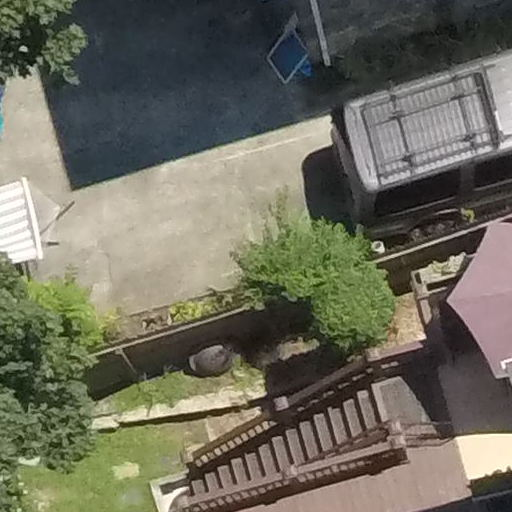container: (370, 238, 388, 258)
